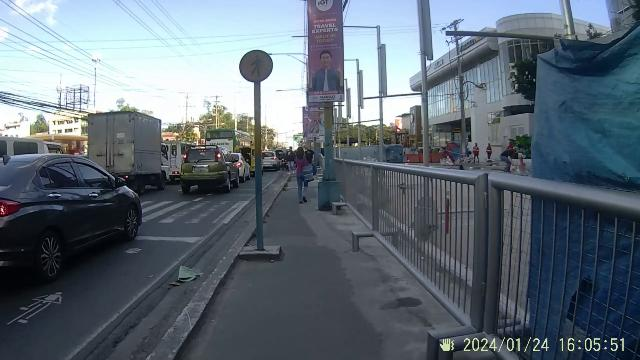street_sign: (224, 42, 290, 274)
utility_post: (307, 103, 349, 210)
